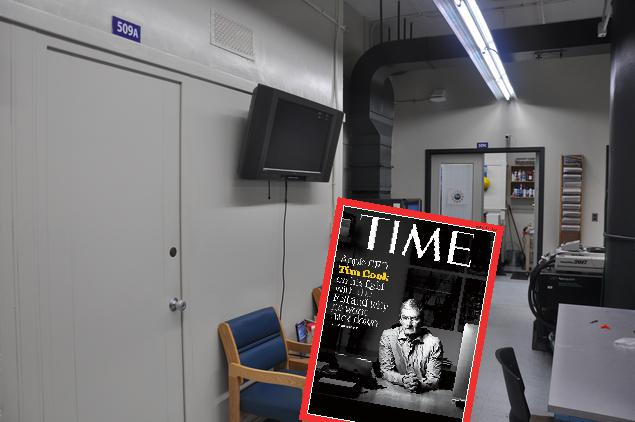times: (297, 199, 508, 422)
